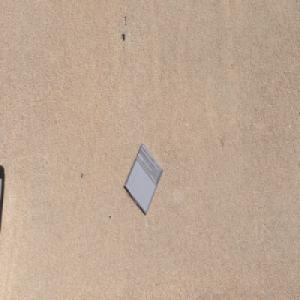PlasticPart: (124, 142, 164, 215)
